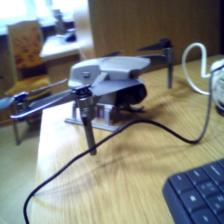drone: (0, 32, 193, 150)
